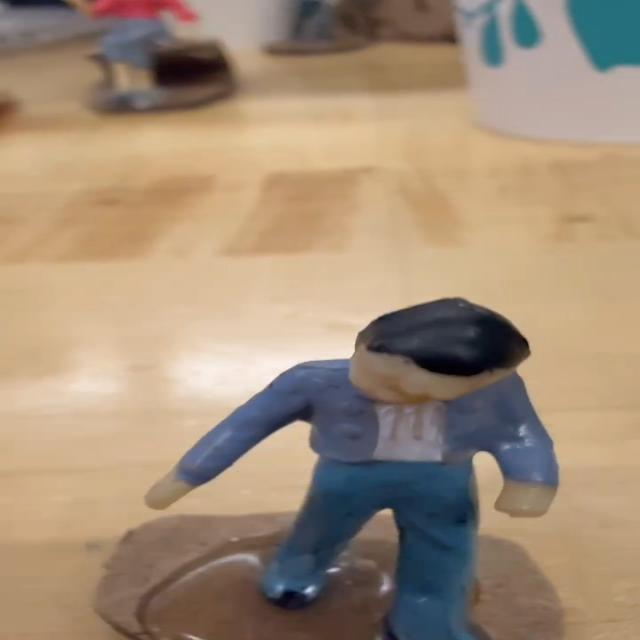Authorized: (136, 293, 566, 640)
